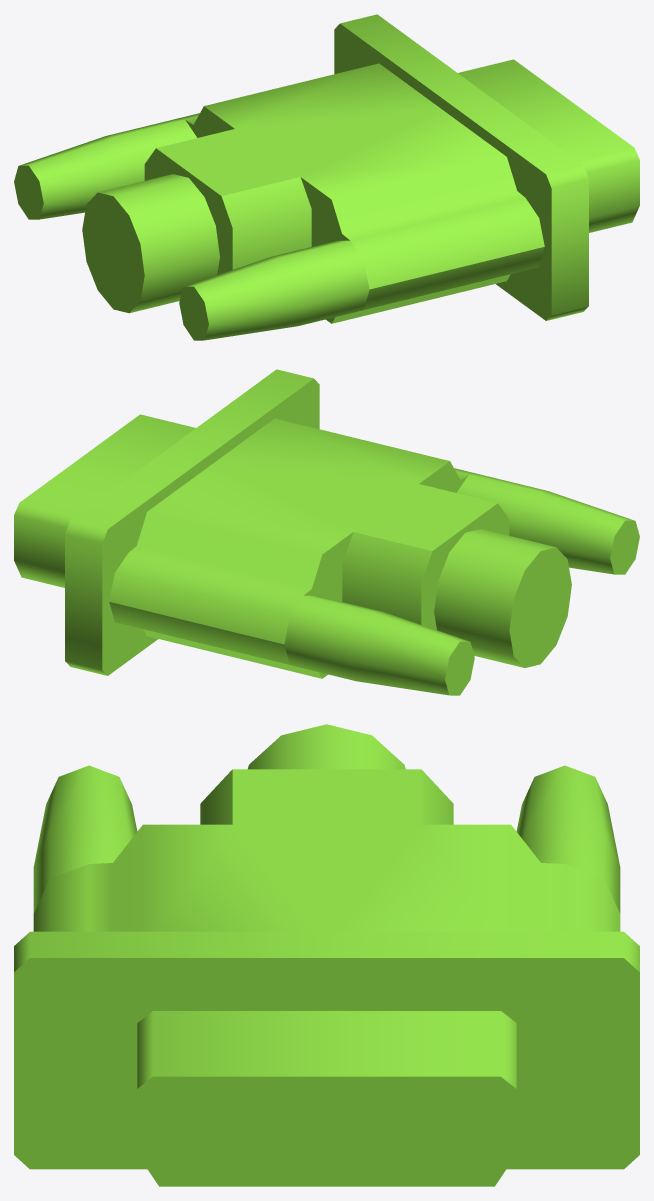
Rendered from SM_DVI_In.fbx.
3 renders of one model, top to bottom at view 1: azimuth 30°, elevation 25°; view 2: azimuth 150°, elevation 25°; view 3: azimuth 270°, elevation 25°, orthographic. The views are drawn at different scales.
Parts seen in each view (by area): view 1: SM_DVI_In; view 2: SM_DVI_In; view 3: SM_DVI_In.
Part boxes in pixels (x1,y1,x2,y2): SM_DVI_In: [14, 14, 639, 340]; SM_DVI_In: [14, 369, 639, 695]; SM_DVI_In: [14, 724, 639, 1186].
Size of the model in its own units: 5.07 by 1.54 by 4.13.
